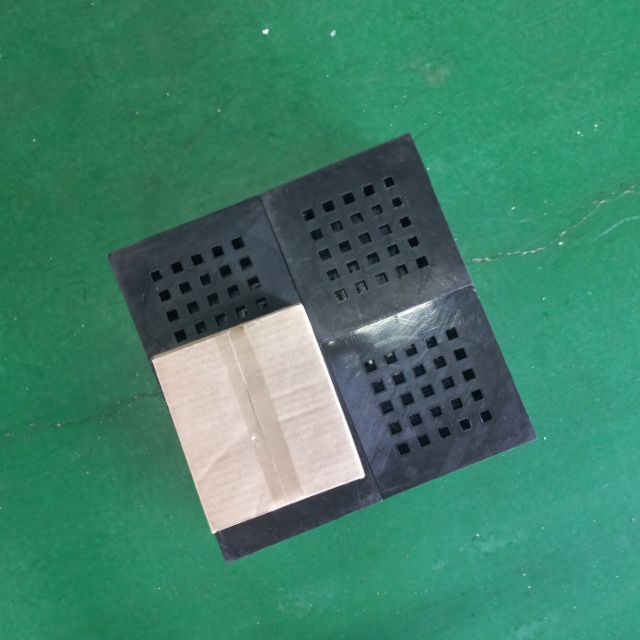box: (145, 297, 367, 558)
pallet: (75, 104, 552, 594)
